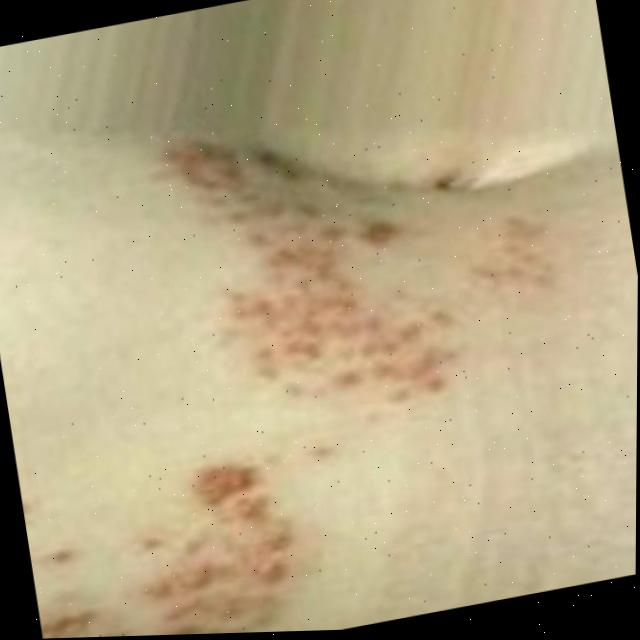Shingles: (181, 80, 558, 406), (18, 442, 321, 639)
